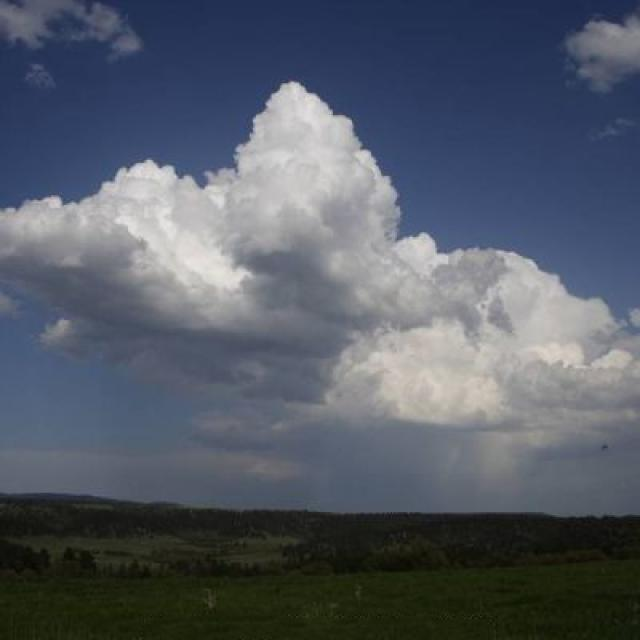Cu: (1, 76, 640, 470)
